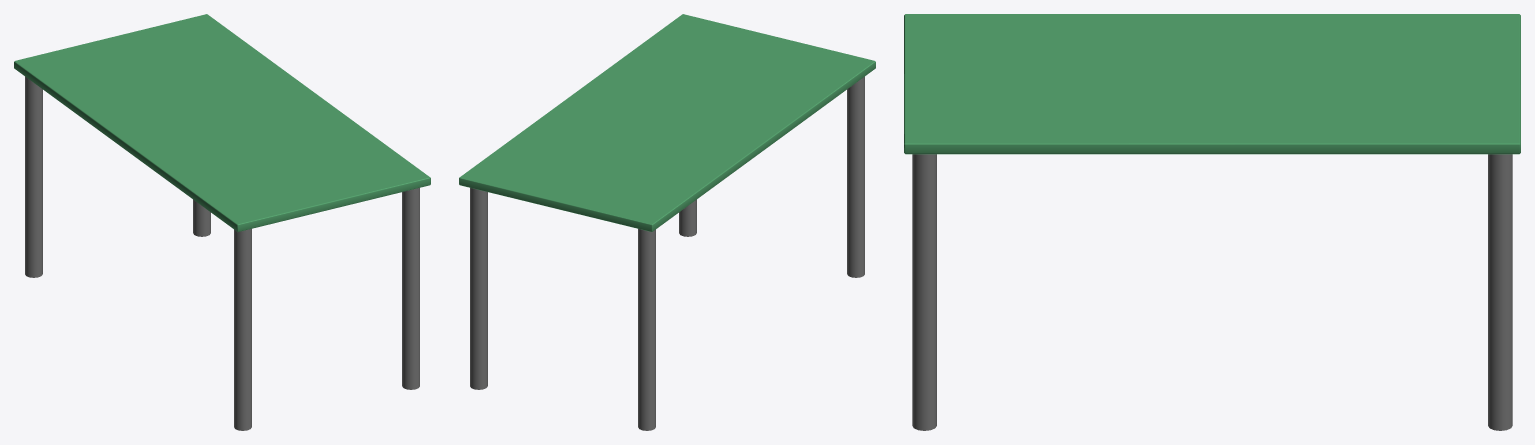
File: Metallic_Table.fbx
3 renders of one model, left to right at view 1: azimuth 30°, elevation 25°; view 2: azimuth 150°, elevation 25°; view 3: azimuth 270°, elevation 25°, orthographic. The views are drawn at different scales.
Parts seen in each view (by area): view 1: Metallic_Table; view 2: Metallic_Table; view 3: Metallic_Table.
Boxes of the visible parts, x1,y1,x2,y2 form: Metallic_Table: [14, 14, 430, 430]; Metallic_Table: [459, 14, 875, 430]; Metallic_Table: [904, 14, 1520, 430].
Size of the model in its own units: 75 by 78 by 150.
